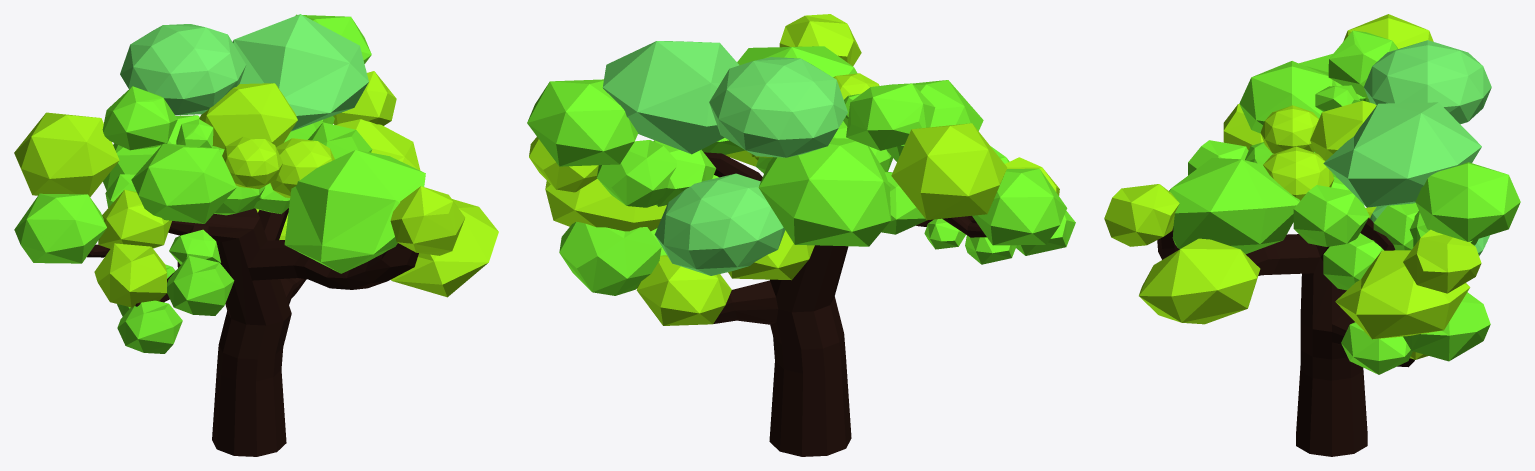
File: 세계수5.fbx
3 renders of one model, left to right at view 1: azimuth 30°, elevation 25°; view 2: azimuth 150°, elevation 25°; view 3: azimuth 270°, elevation 25°, orthographic. The views are drawn at different scales.
Visible parts, largest first — view 1: GeoSphere013; view 2: GeoSphere013; view 3: GeoSphere013.
Part boxes in pixels (x1,y1,x2,y2): GeoSphere013: (14, 14, 498, 456); GeoSphere013: (527, 14, 1075, 456); GeoSphere013: (1104, 14, 1520, 456).
Bounding box in the file's own units: 974 × 826 × 812.
